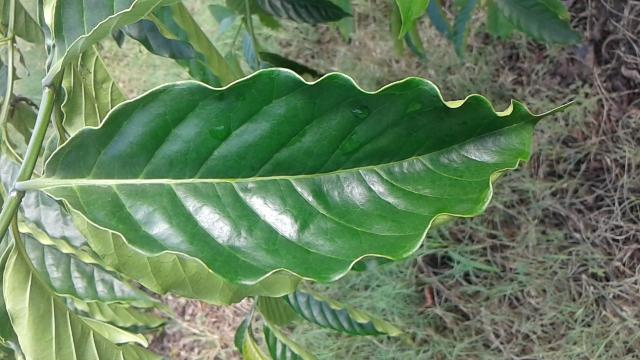healthy: (46, 68, 574, 286)
